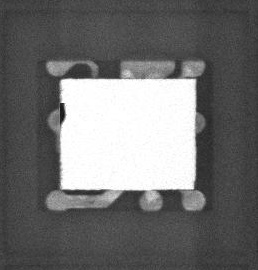DIE_BROKEN: (56, 100, 67, 127)
